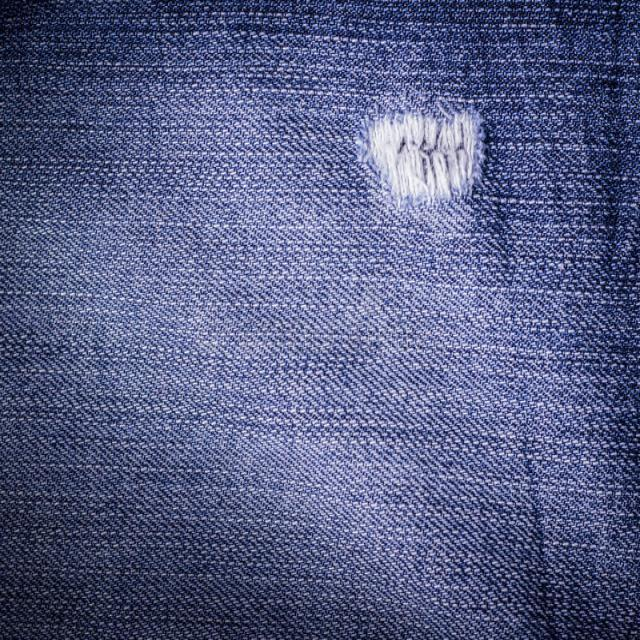Hole: (363, 112, 485, 206)
